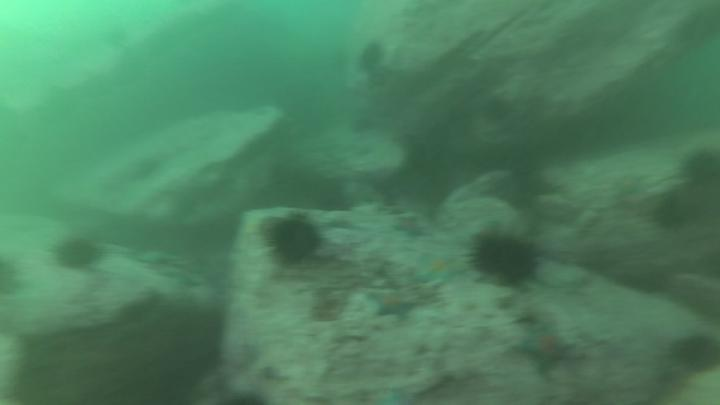echinus: (466, 225, 543, 294), (263, 211, 325, 273), (671, 330, 720, 378), (51, 235, 110, 272), (680, 144, 720, 191), (357, 39, 391, 74), (1, 254, 26, 298), (481, 93, 515, 125)
starfish: (511, 319, 590, 378), (364, 289, 427, 324), (418, 248, 469, 286), (388, 211, 430, 241)
